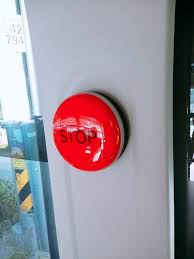bell: (48, 89, 134, 173)
